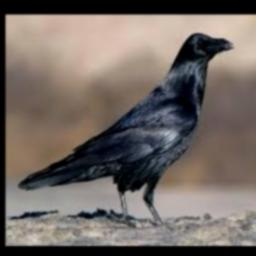Crow: (17, 32, 234, 224)
